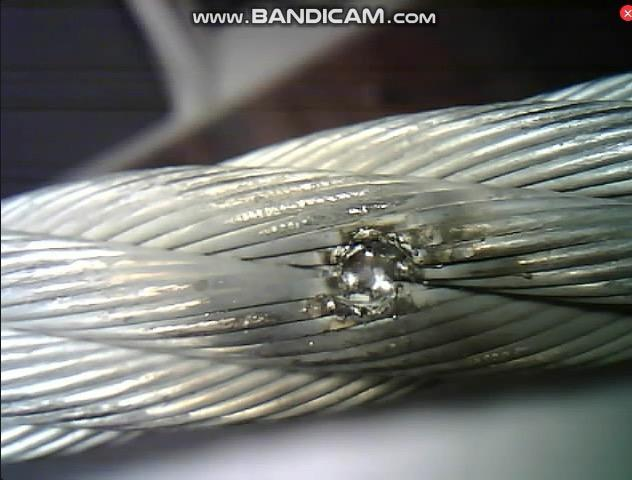thunderbolt: (312, 208, 449, 338)
